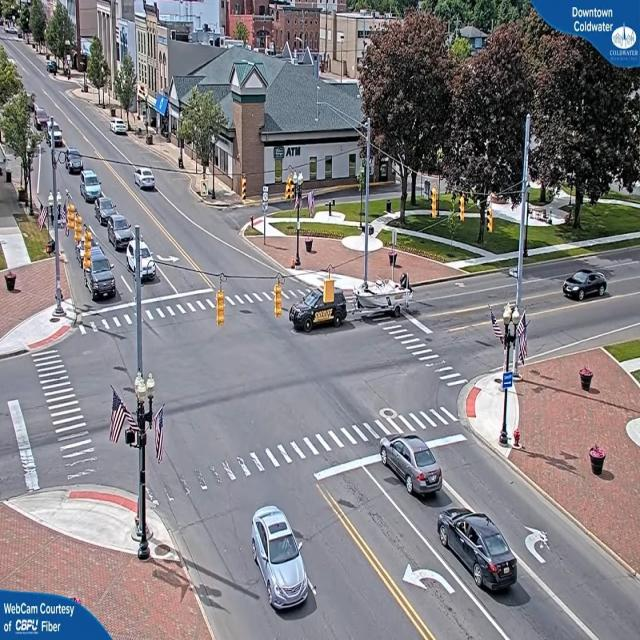car: (436, 509, 520, 594), (252, 509, 314, 616), (378, 434, 444, 500), (289, 290, 349, 333), (562, 270, 610, 300), (87, 250, 118, 296), (106, 216, 136, 251), (80, 170, 102, 204), (134, 168, 154, 190), (112, 119, 128, 136)
